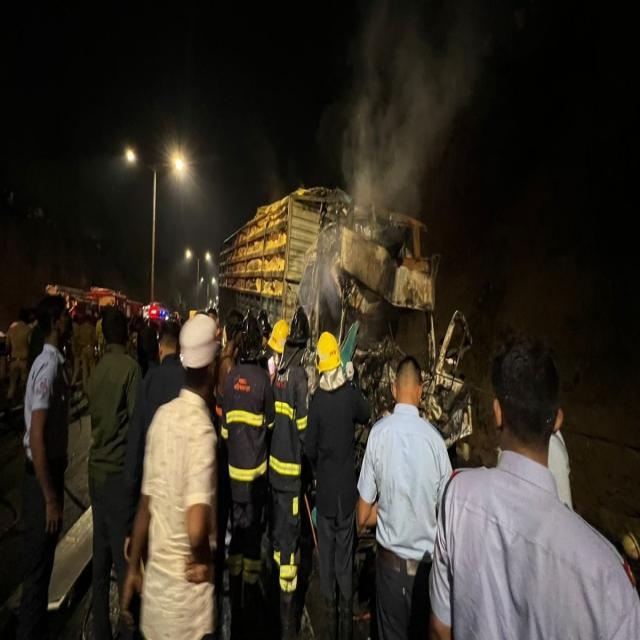accident: (219, 189, 471, 446)
